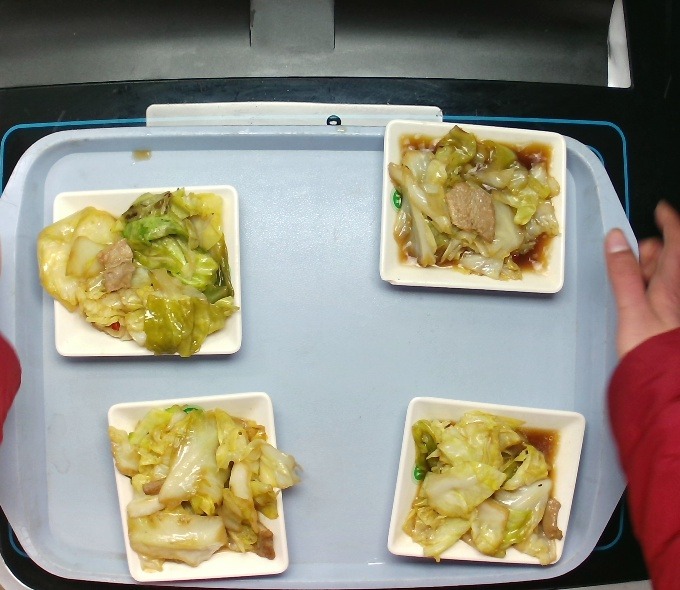wcq-JuanXinCaiChaoRou: (31, 182, 247, 361), (100, 391, 305, 574), (378, 113, 565, 291), (394, 407, 565, 572)
